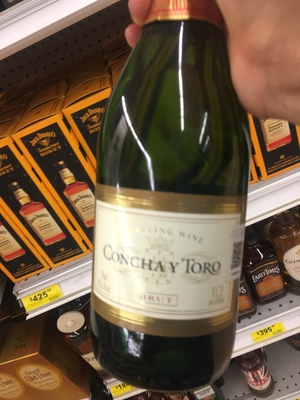brut: (82, 6, 259, 384)
